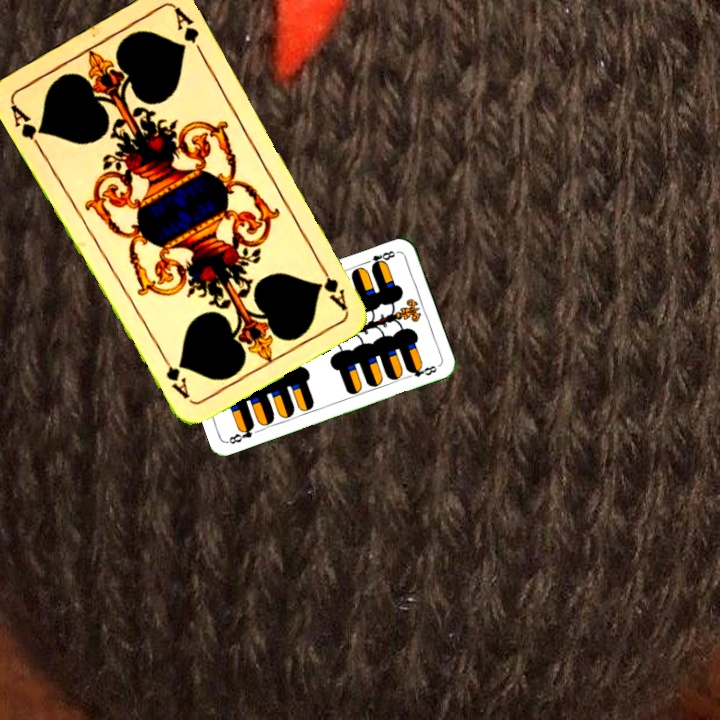E8: (361, 246, 398, 271), (224, 421, 257, 447)
GA: (6, 99, 48, 153), (313, 257, 349, 312)
